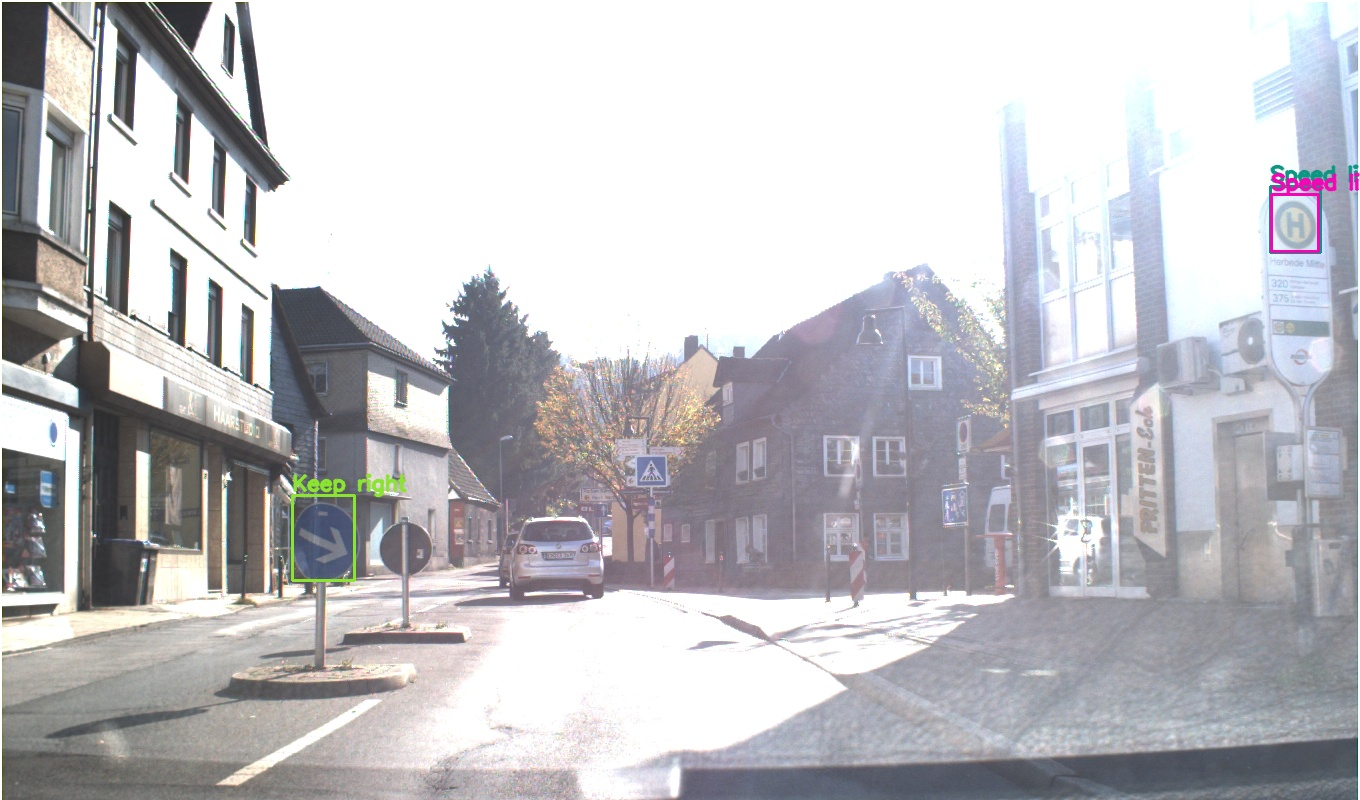Keep right: (22, 505, 88, 571)
